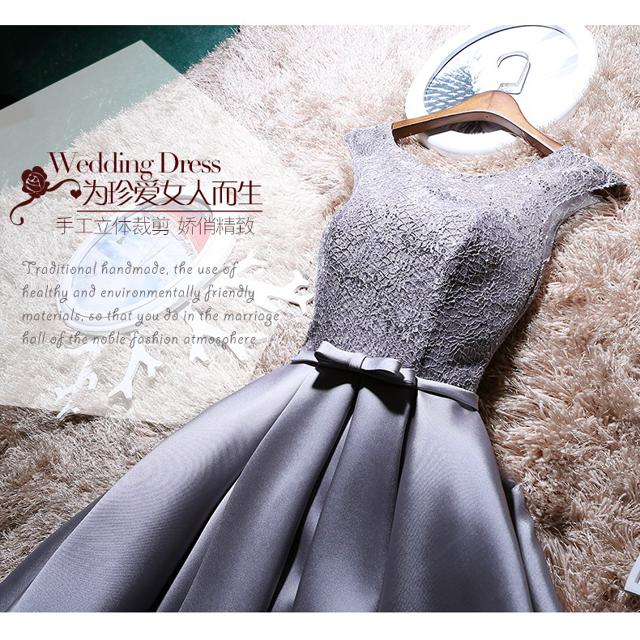Dresses: (13, 114, 618, 614)
